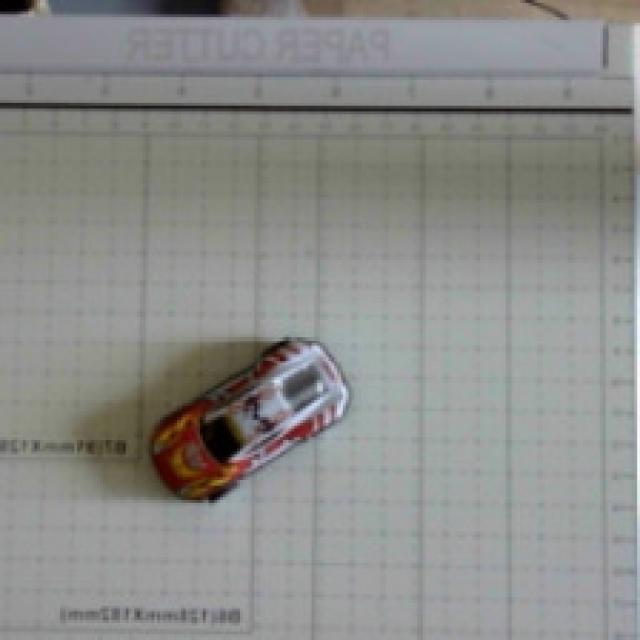Red Car: (120, 312, 406, 538)
